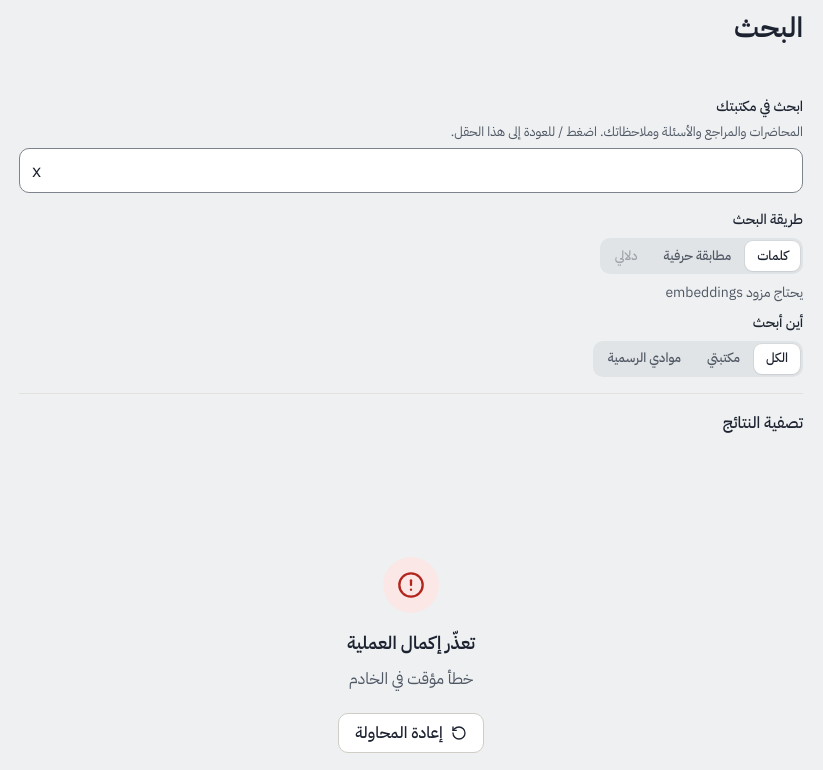
Test case: review regressions (C1 adversarial review) › «إعادة المحاولة» after a server error really searches again
Step 1. Click the button "إعادة المحاولة" → [411, 733], box 338,713 -> 484,753
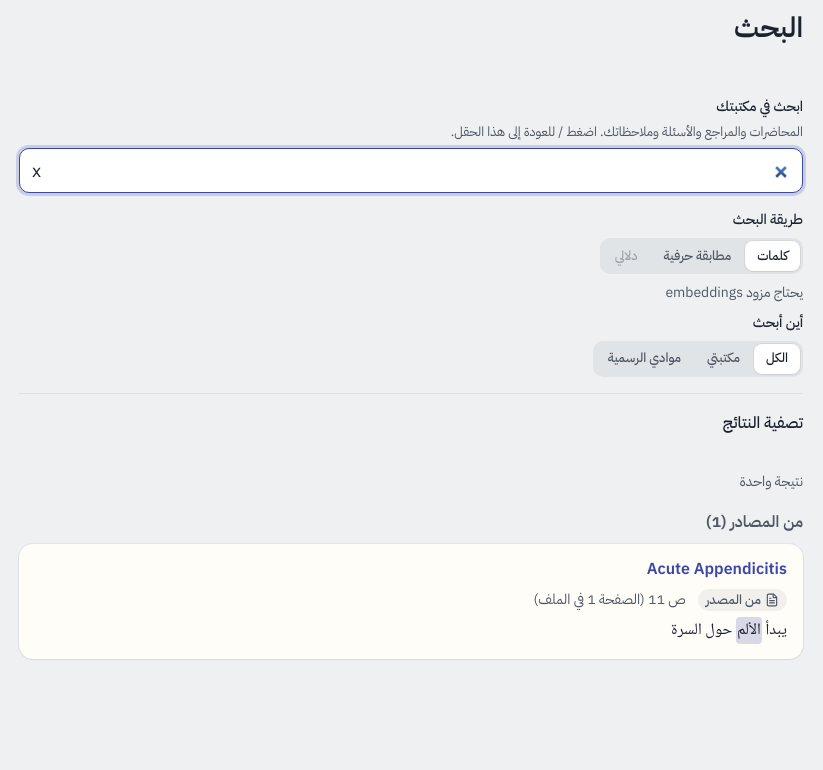
expect the heading "من المصادر (1)" is shown: met, box 706,510 -> 803,534
